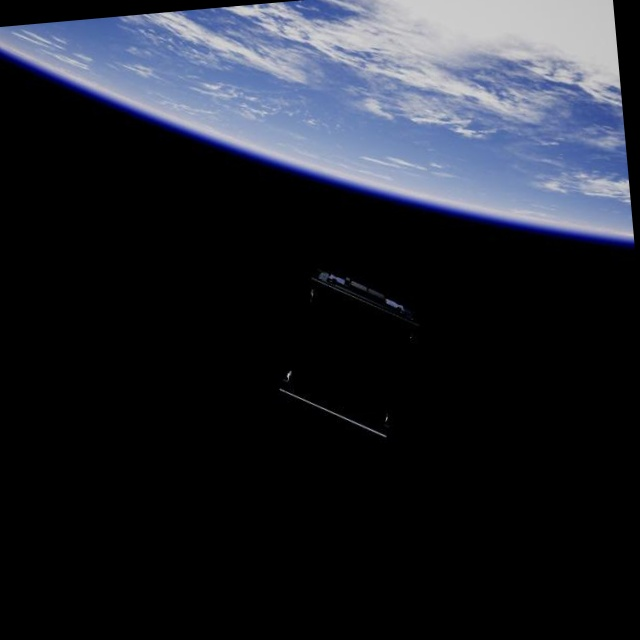medium_debris: (262, 255, 436, 456)
